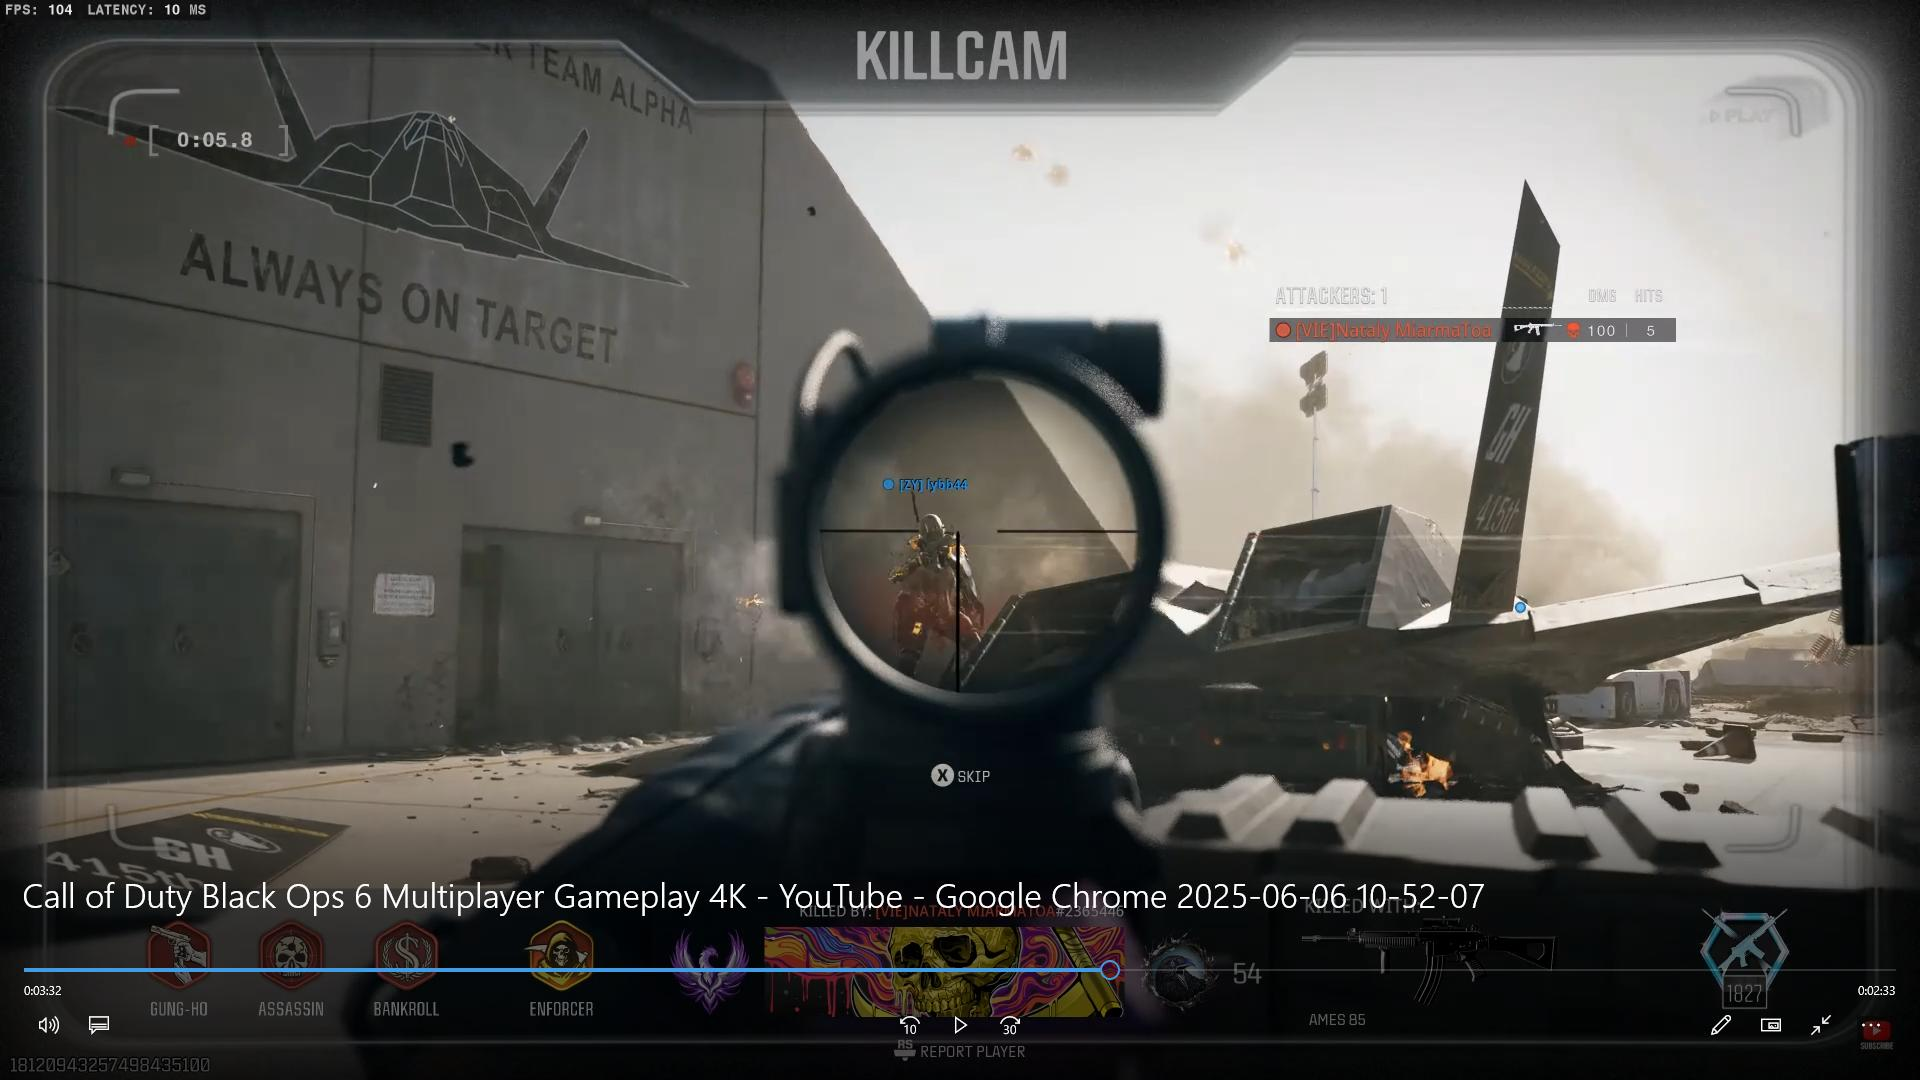Enemy: (877, 500, 992, 662)
